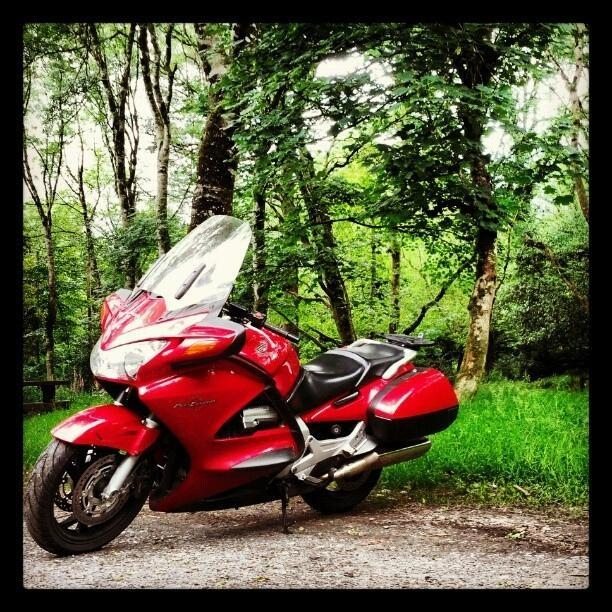motorcycle: (25, 211, 464, 556)
